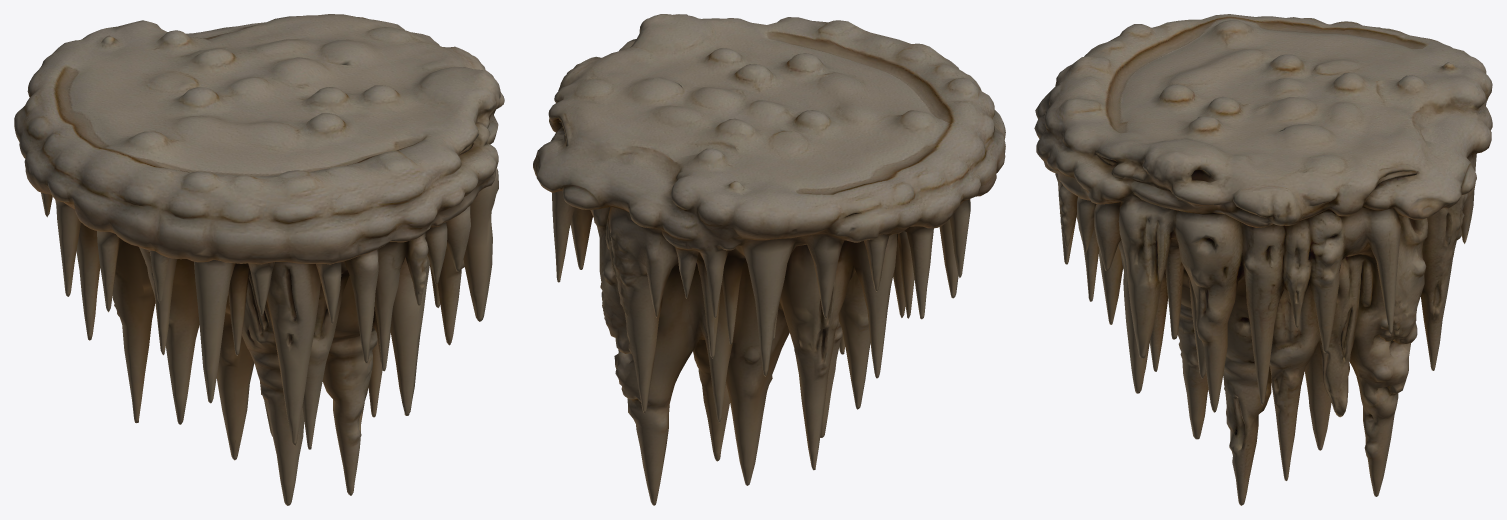
The model's file is cav_stalactite_ceiling_cluster.glb.
The picture shows the model from 3 angles, left to right: view 1: azimuth 30°, elevation 25°; view 2: azimuth 150°, elevation 25°; view 3: azimuth 270°, elevation 25°; orthographic projection. The views are drawn at different scales.
Visible parts, largest first — view 1: tripo_node_cf9095d3-c141-4859-948e-a06c82a533c3; view 2: tripo_node_cf9095d3-c141-4859-948e-a06c82a533c3; view 3: tripo_node_cf9095d3-c141-4859-948e-a06c82a533c3.
Boxes of the visible parts, left/top/right/bottom form: tripo_node_cf9095d3-c141-4859-948e-a06c82a533c3: left=14, top=14, right=504, bottom=505; tripo_node_cf9095d3-c141-4859-948e-a06c82a533c3: left=533, top=14, right=1005, bottom=505; tripo_node_cf9095d3-c141-4859-948e-a06c82a533c3: left=1034, top=14, right=1492, bottom=505.
Bounding box in the file's own units: 0.998 × 0.9434 × 0.9863.
1 material, 1 textured.
